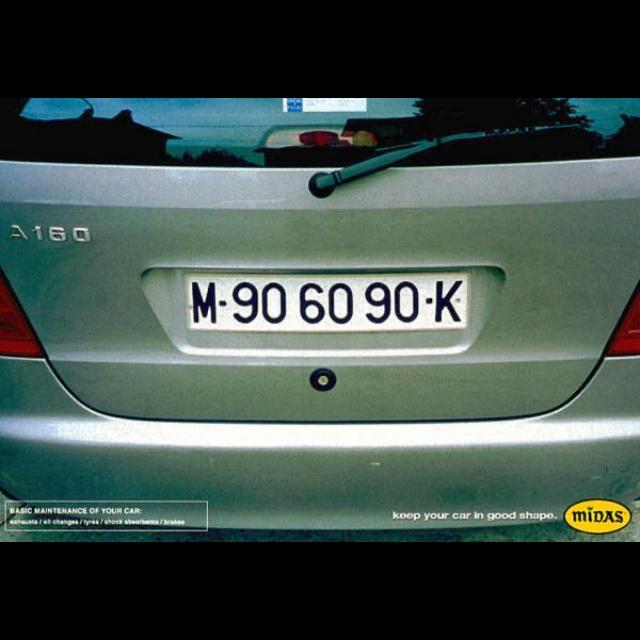carPlate: (187, 273, 468, 329)
